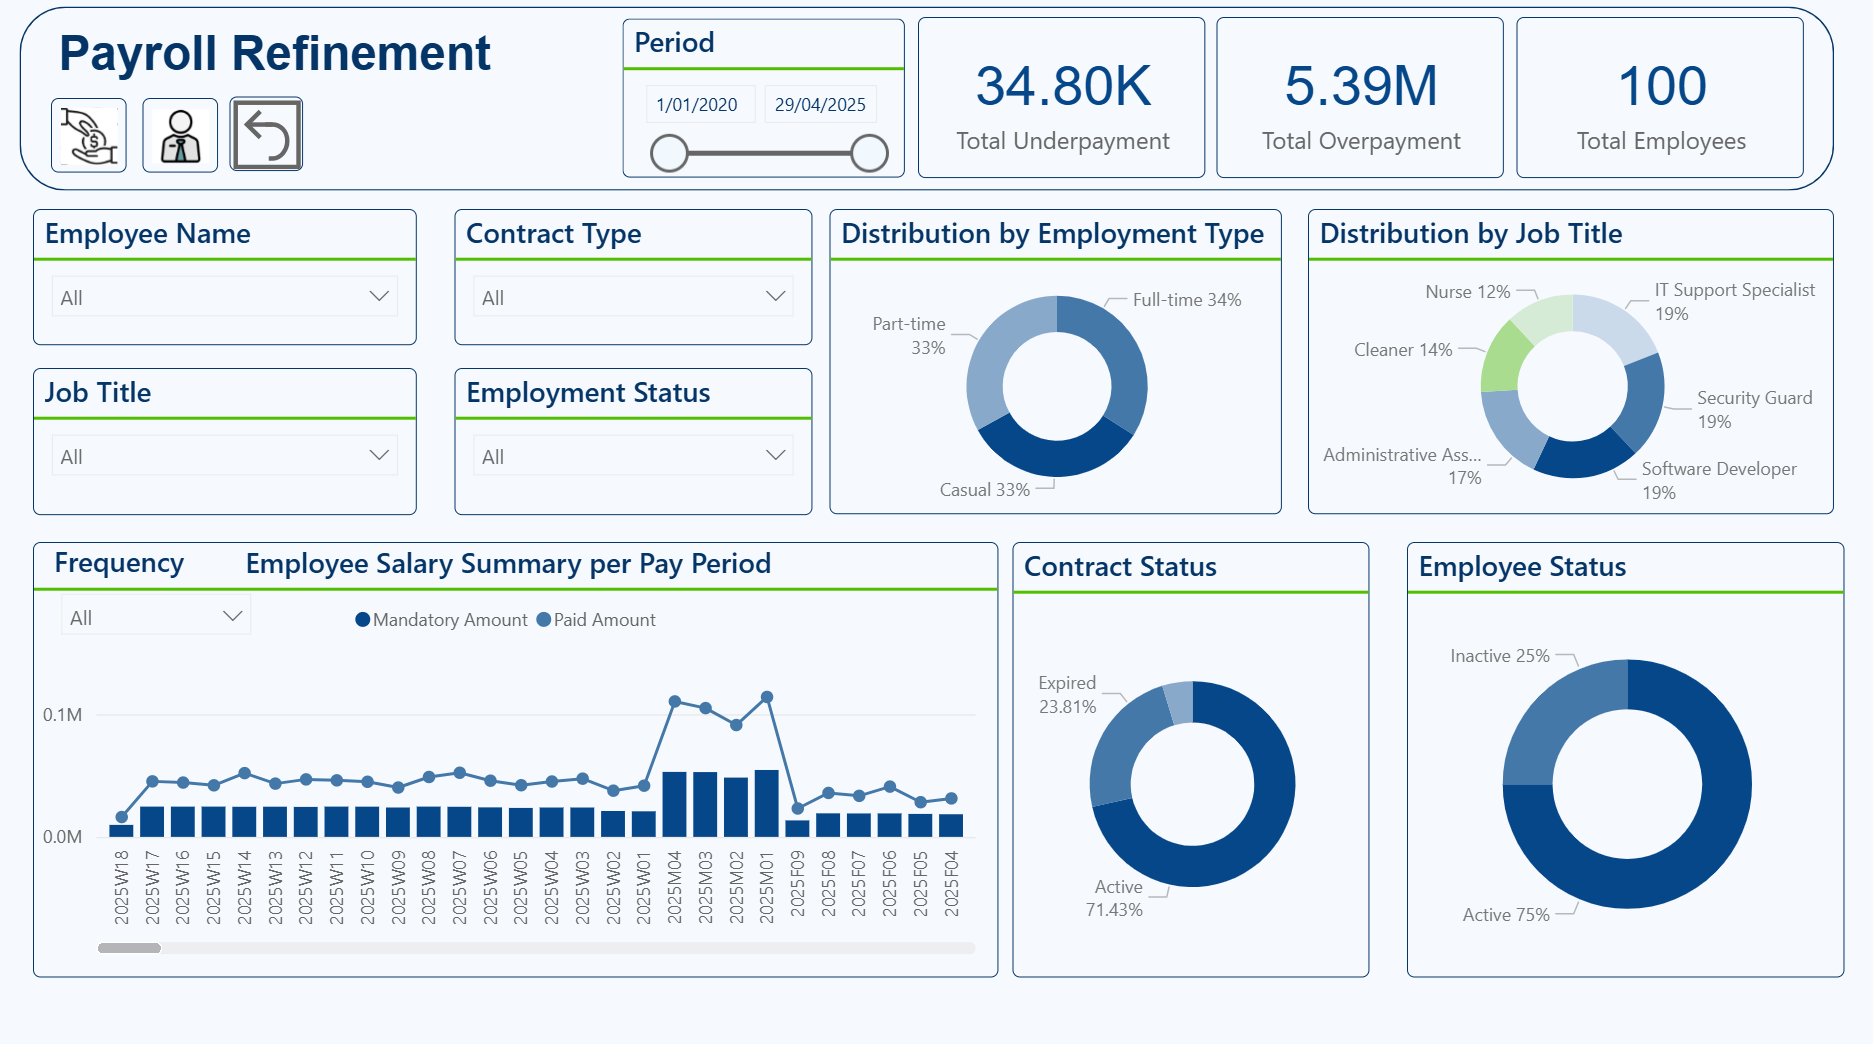

The dashboard page shown, as its layout file describes it:
{"tool":"powerbi","page":{"name":"Payroll Refinement","canvas":[1280,720],"ordinal":0},"visuals":[{"type":"shape","box":[23.3,10.7,1216.8,123.5],"z":0},{"type":"card","fields":{"Values":["Measure Table.Total Underpayment"]},"box":[625.4,18.5,192.6,108],"z":1000},{"type":"card","fields":{"Values":["Measure Table.Total Overpayment"]},"box":[825.8,18.5,192.6,108],"z":2000},{"type":"card","fields":{"Values":["Measure Table.Employment Count"]},"box":[1027.1,18.5,192.6,108],"z":3000},{"type":"slicer","title":"Period","fields":{"Values":["dim_dates.date"]},"box":[421.2,19.5,195.5,107],"z":4000},{"type":"slicer","title":"Employee Name","fields":{"Values":["dim_employees.employee_full_name"]},"box":[31.9,147.2,257.1,91.3],"z":5000},{"type":"slicer","title":"Employment Status","fields":{"Values":["dim_employees.current_employment_type"]},"box":[314.8,253.6,240.3,98.4],"z":6000},{"type":"slicer","title":"Contract Type","fields":{"Values":["dim_employees.current_contract_type"]},"box":[314.8,147.2,240.3,91.3],"z":7000},{"type":"slicer","title":"Job Title","fields":{"Values":["dim_employees.current_job_title"]},"box":[31.9,253.6,257.1,98.4],"z":8000},{"type":"donutChart","title":"Distribution by Employment Type","fields":{"Category":["dim_employees.current_employment_type"],"Y":["Measure Table.Employment Count"]},"box":[566.6,147.2,303.3,204.8],"z":9000},{"type":"donutChart","title":"Distribution by Job Title","fields":{"Category":["dim_employees.current_job_title"],"Y":["Measure Table.Employment Count"]},"box":[887.6,147.2,352.9,204.8],"z":10000},{"type":"donutChart","title":"Contract Status","fields":{"Category":["dim_contracts.contract_status"],"Y":["CountNonNull(dim_contracts.contract_status)"]},"box":[689,369.8,239.4,291.7],"z":11000},{"type":"donutChart","title":"Employee Status","fields":{"Category":["dim_employees.employee_status"],"Y":["CountNonNull(dim_employees.employee_status)"]},"box":[953.2,369.8,293.5,291.7],"z":12000},{"type":"lineStackedColumnComboChart","title":"Employee Salary Summary per Pay Period","fields":{"Y":["Measure Table.Mandatory Amount"],"Y2":["Measure Table.Paid Amount"],"Category":["dim_pay_period.pay_period_pk"]},"box":[31.9,369.8,647.3,291.7],"z":13000},{"type":"slicer","title":"Frequency","fields":{"Values":["dim_pay_period.frequency"]},"box":[41.7,369.6,147.2,75.3],"z":14000},{"type":"textbox","box":[44.3,18.6,336.9,54.1],"z":15000},{"type":"actionButton","box":[105.5,72.7,50.5,50],"z":16000},{"type":"actionButton","box":[44.3,72.7,50.5,50],"z":17000},{"type":"actionButton","box":[164.1,71.7,49.1,50.1],"z":18000}]}

Visuals, with their boxes in screenshot pixels (x1, y1, x2, y2), scaled from the page's 1280x720 canvas onto the 1873x1044 screenshot:
shape: bbox=[34, 16, 1815, 195]
card - Measure Table.Total Underpayment: bbox=[915, 27, 1197, 183]
card - Measure Table.Total Overpayment: bbox=[1208, 27, 1490, 183]
card - Measure Table.Employment Count: bbox=[1503, 27, 1785, 183]
"Period" slicer: bbox=[616, 28, 902, 183]
"Employee Name" slicer: bbox=[47, 213, 423, 346]
"Employment Status" slicer: bbox=[461, 368, 812, 510]
"Contract Type" slicer: bbox=[461, 213, 812, 346]
"Job Title" slicer: bbox=[47, 368, 423, 510]
"Distribution by Employment Type" donutChart: bbox=[829, 213, 1273, 510]
"Distribution by Job Title" donutChart: bbox=[1299, 213, 1815, 510]
"Contract Status" donutChart: bbox=[1008, 536, 1359, 959]
"Employee Status" donutChart: bbox=[1395, 536, 1824, 959]
"Employee Salary Summary per Pay Period" lineStackedColumnComboChart: bbox=[47, 536, 994, 959]
"Frequency" slicer: bbox=[61, 536, 276, 645]
textbox: bbox=[65, 27, 558, 105]
actionButton: bbox=[154, 105, 228, 178]
actionButton: bbox=[65, 105, 139, 178]
actionButton: bbox=[240, 104, 312, 177]
